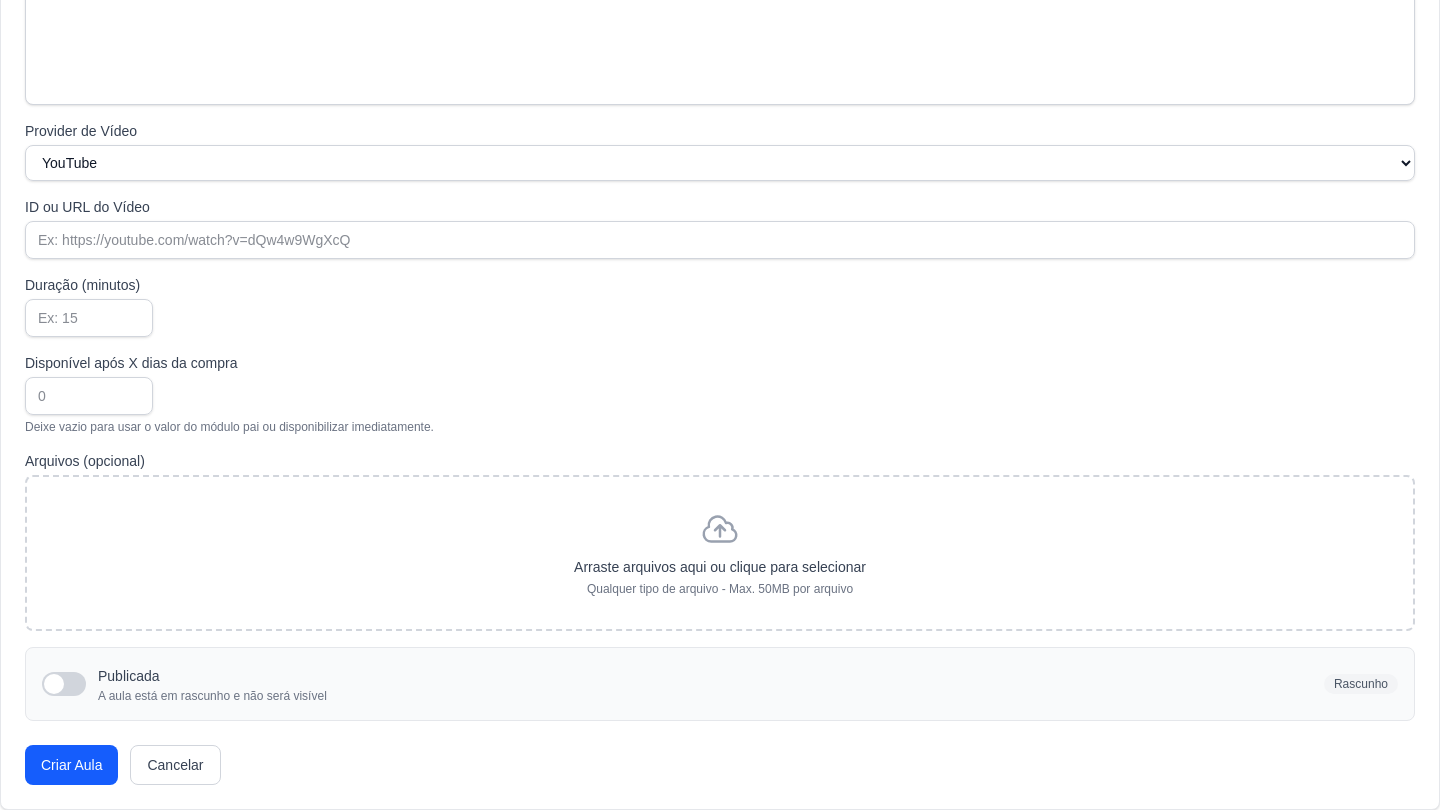
LessonForm › shows validation error when title is empty
(page scrolled)
Click the button "Criar Aula" at [72, 765], box [25,745,118,785]
(page scrolled)
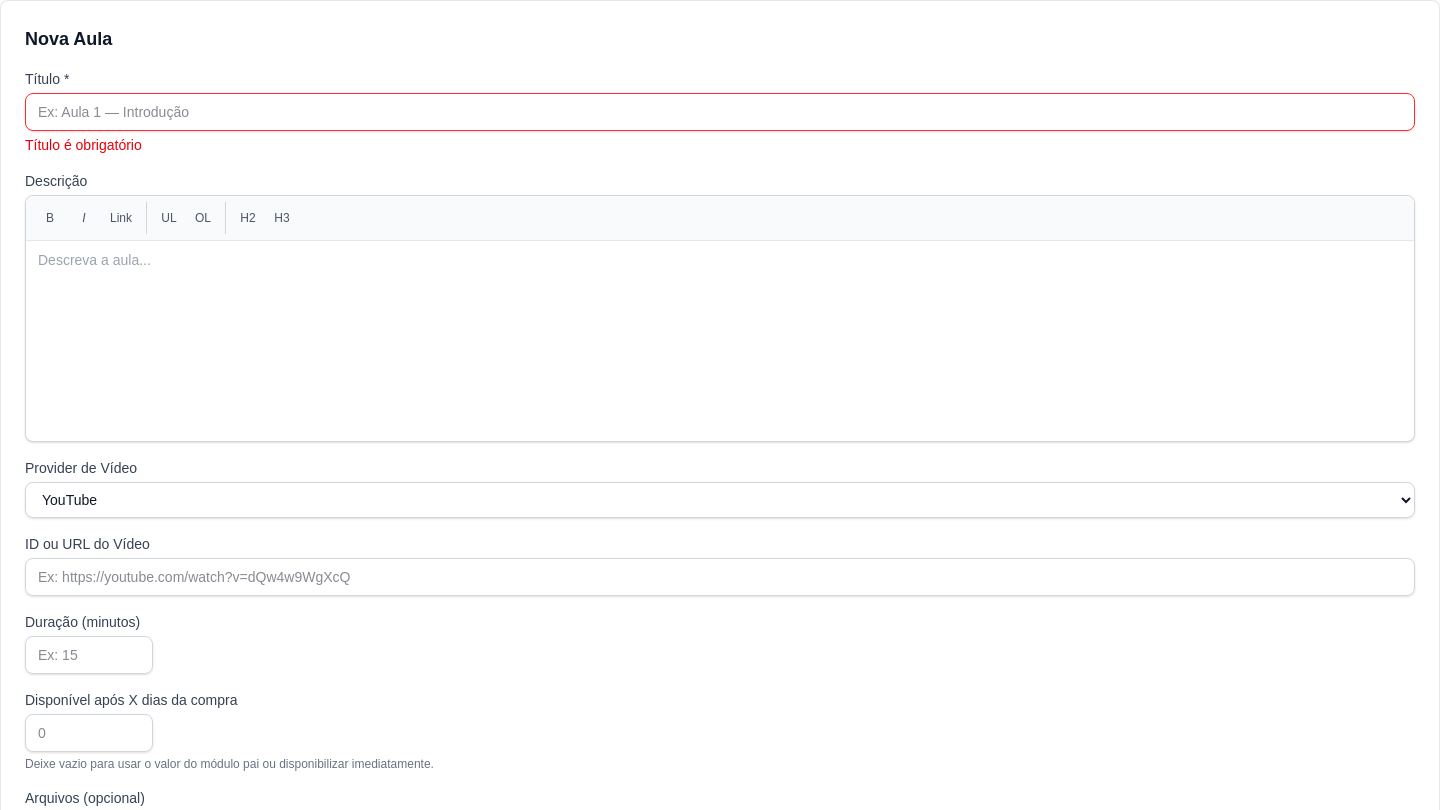
Check: the text "Título é obrigatório" is shown, box [25,137,142,153]
